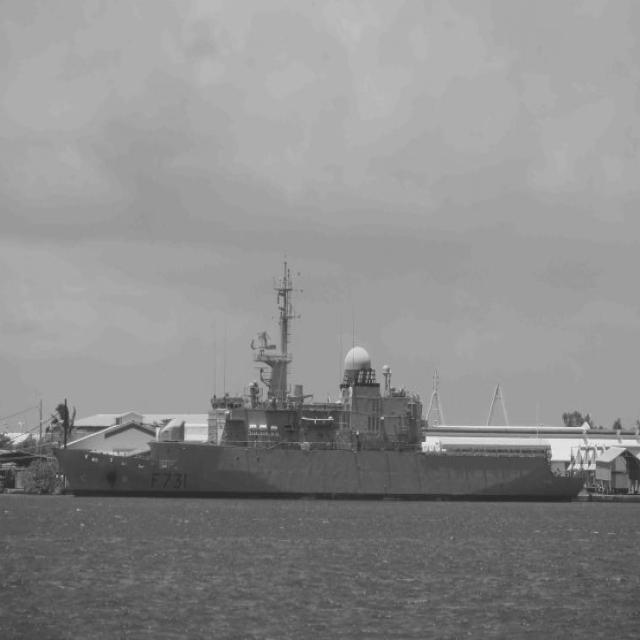Fragata: (47, 252, 601, 506)
